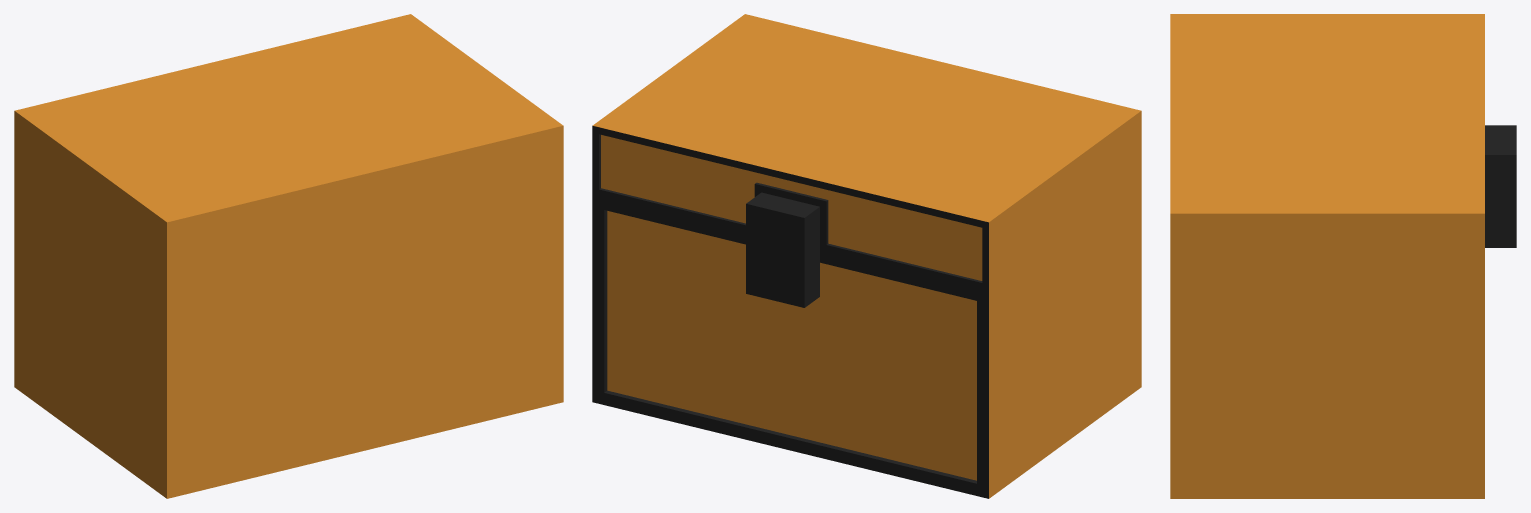
Rendered from fuckoffbitchMASD.fbx.
3 renders of one model, left to right at view 1: azimuth 30°, elevation 25°; view 2: azimuth 150°, elevation 25°; view 3: azimuth 270°, elevation 25°, orthographic. The views are drawn at different scales.
Parts seen in each view (by area): view 1: Chest1, Chest2; view 2: Chest1, Chest2; view 3: Chest2, Chest1.
Boxes of the visible parts, left/top/right/bottom form: Chest1: left=14, top=180, right=563, bottom=498; Chest2: left=14, top=14, right=563, bottom=291; Chest1: left=592, top=180, right=1141, bottom=498; Chest2: left=592, top=14, right=1141, bottom=307; Chest2: left=1170, top=14, right=1516, bottom=284; Chest1: left=1170, top=285, right=1484, bottom=498.
Size of the model in its own units: 300 by 200 by 220.
